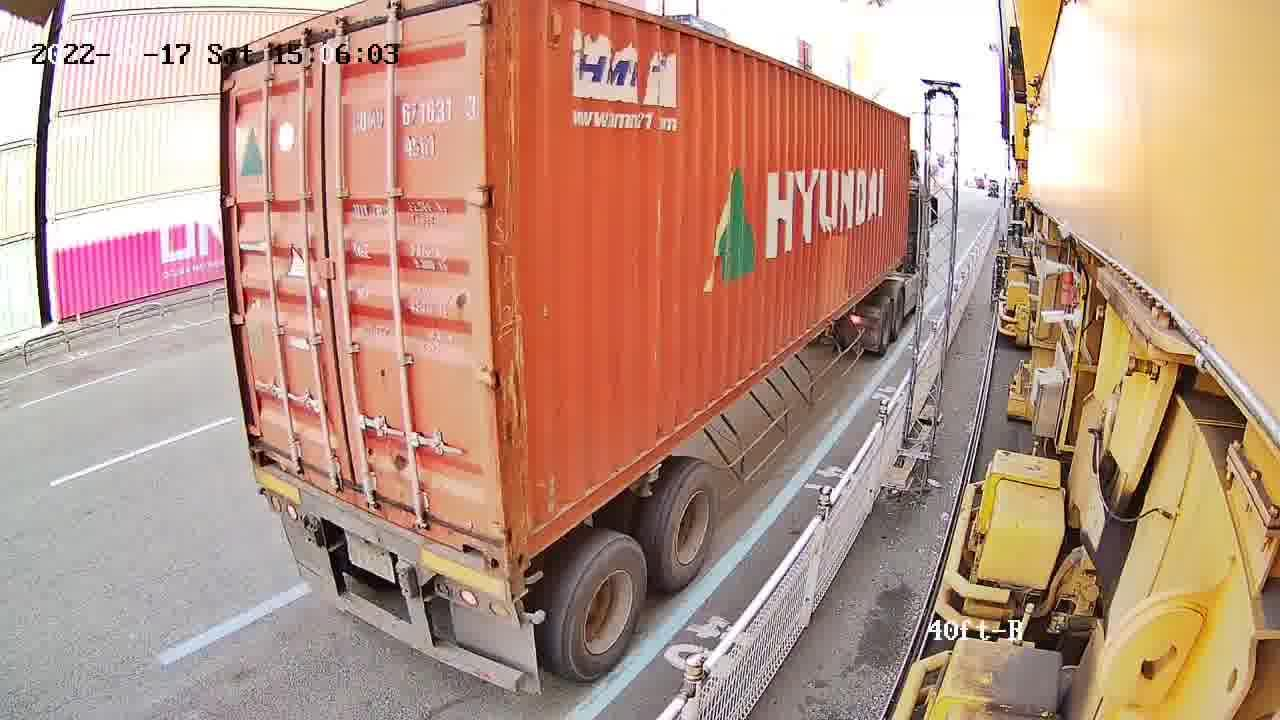Chassis: (253, 469, 510, 586)
Cone: (509, 566, 536, 604)
Hole_L: (508, 496, 553, 575), (244, 423, 287, 476)
Hole_R: (461, 508, 505, 577)
Tire: (564, 540, 646, 680), (662, 465, 722, 587)
